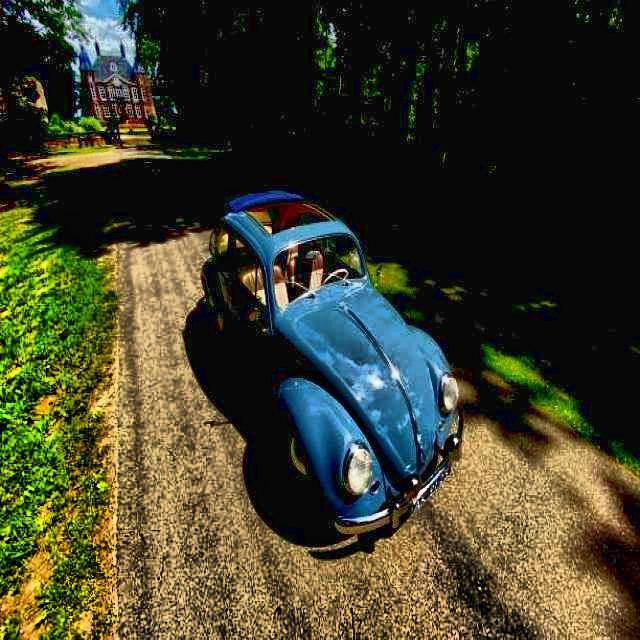carro: (196, 192, 468, 528)
